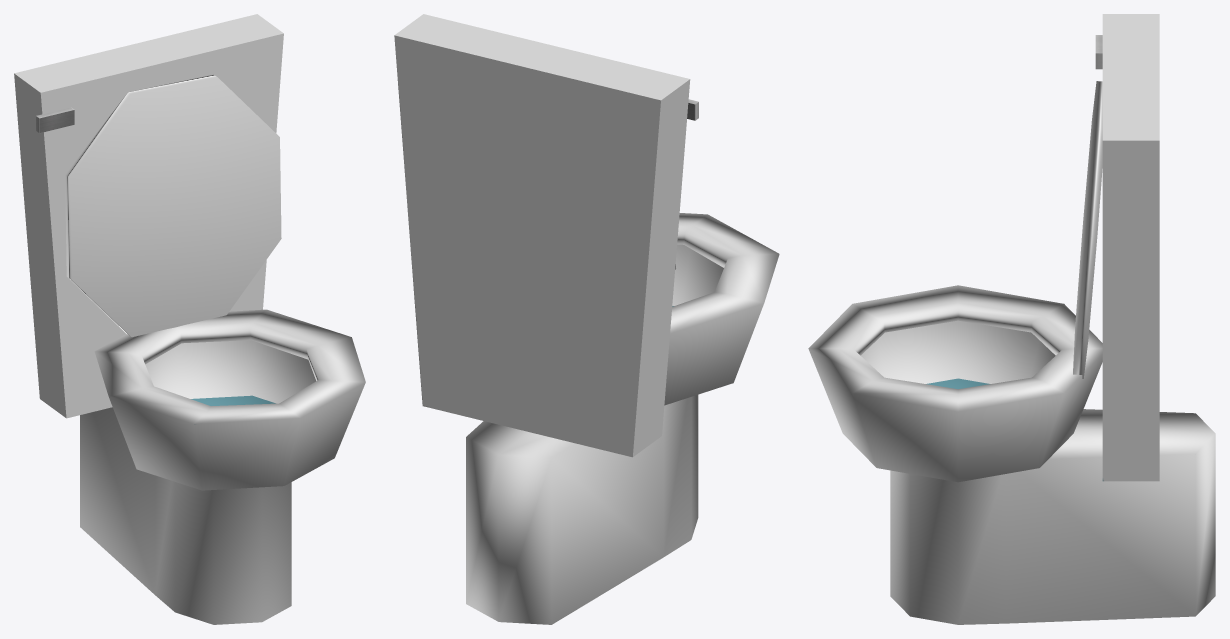
File: Toilet.fbx
3 views of the same model, side by side, from view 1: azimuth 30°, elevation 25°; view 2: azimuth 150°, elevation 25°; view 3: azimuth 270°, elevation 25° (orthographic). The views are drawn at different scales.
Parts seen in each view (by area): view 1: Toilet; view 2: Toilet; view 3: Toilet.
Part boxes in pixels (box(x1,y1,x2,y2)): Toilet: box(14, 14, 365, 624); Toilet: box(394, 14, 779, 624); Toilet: box(808, 14, 1215, 624).
Bounding box in the file's own units: 40.79 × 76.4 × 54.36.
Materials: 1 (1 with a texture image).
